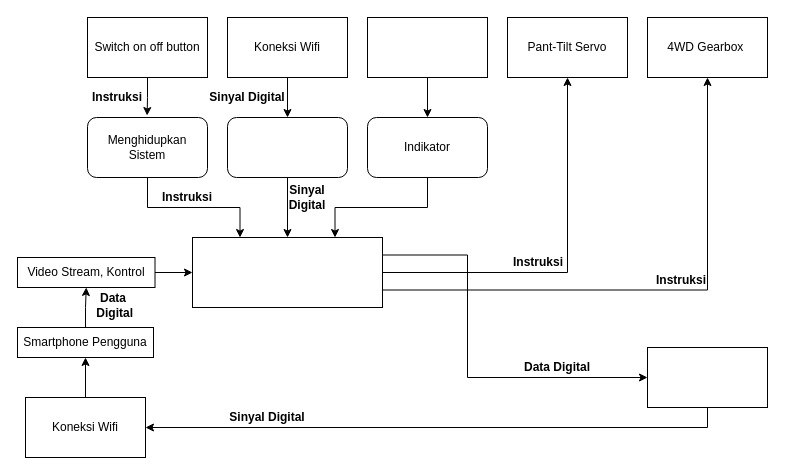
The diagram is 785 pixels wide and 475 high, and some of its shapes have lost their labels. The centre of each missing label's shape, as x and y in pixels:
"LED" goes at point (427, 47).
"Menghubungkan Sistem" goes at point (287, 147).
"Mikrokontroller ESP-32 Cam" goes at point (287, 272).
"WebSocket" goes at point (707, 377).
